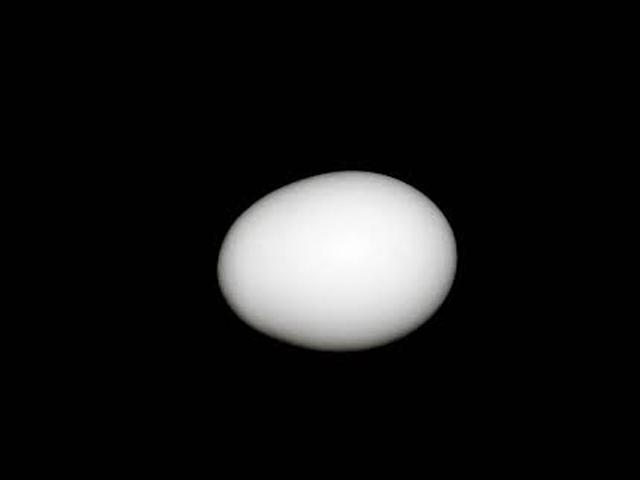egg: (220, 172, 458, 347)
